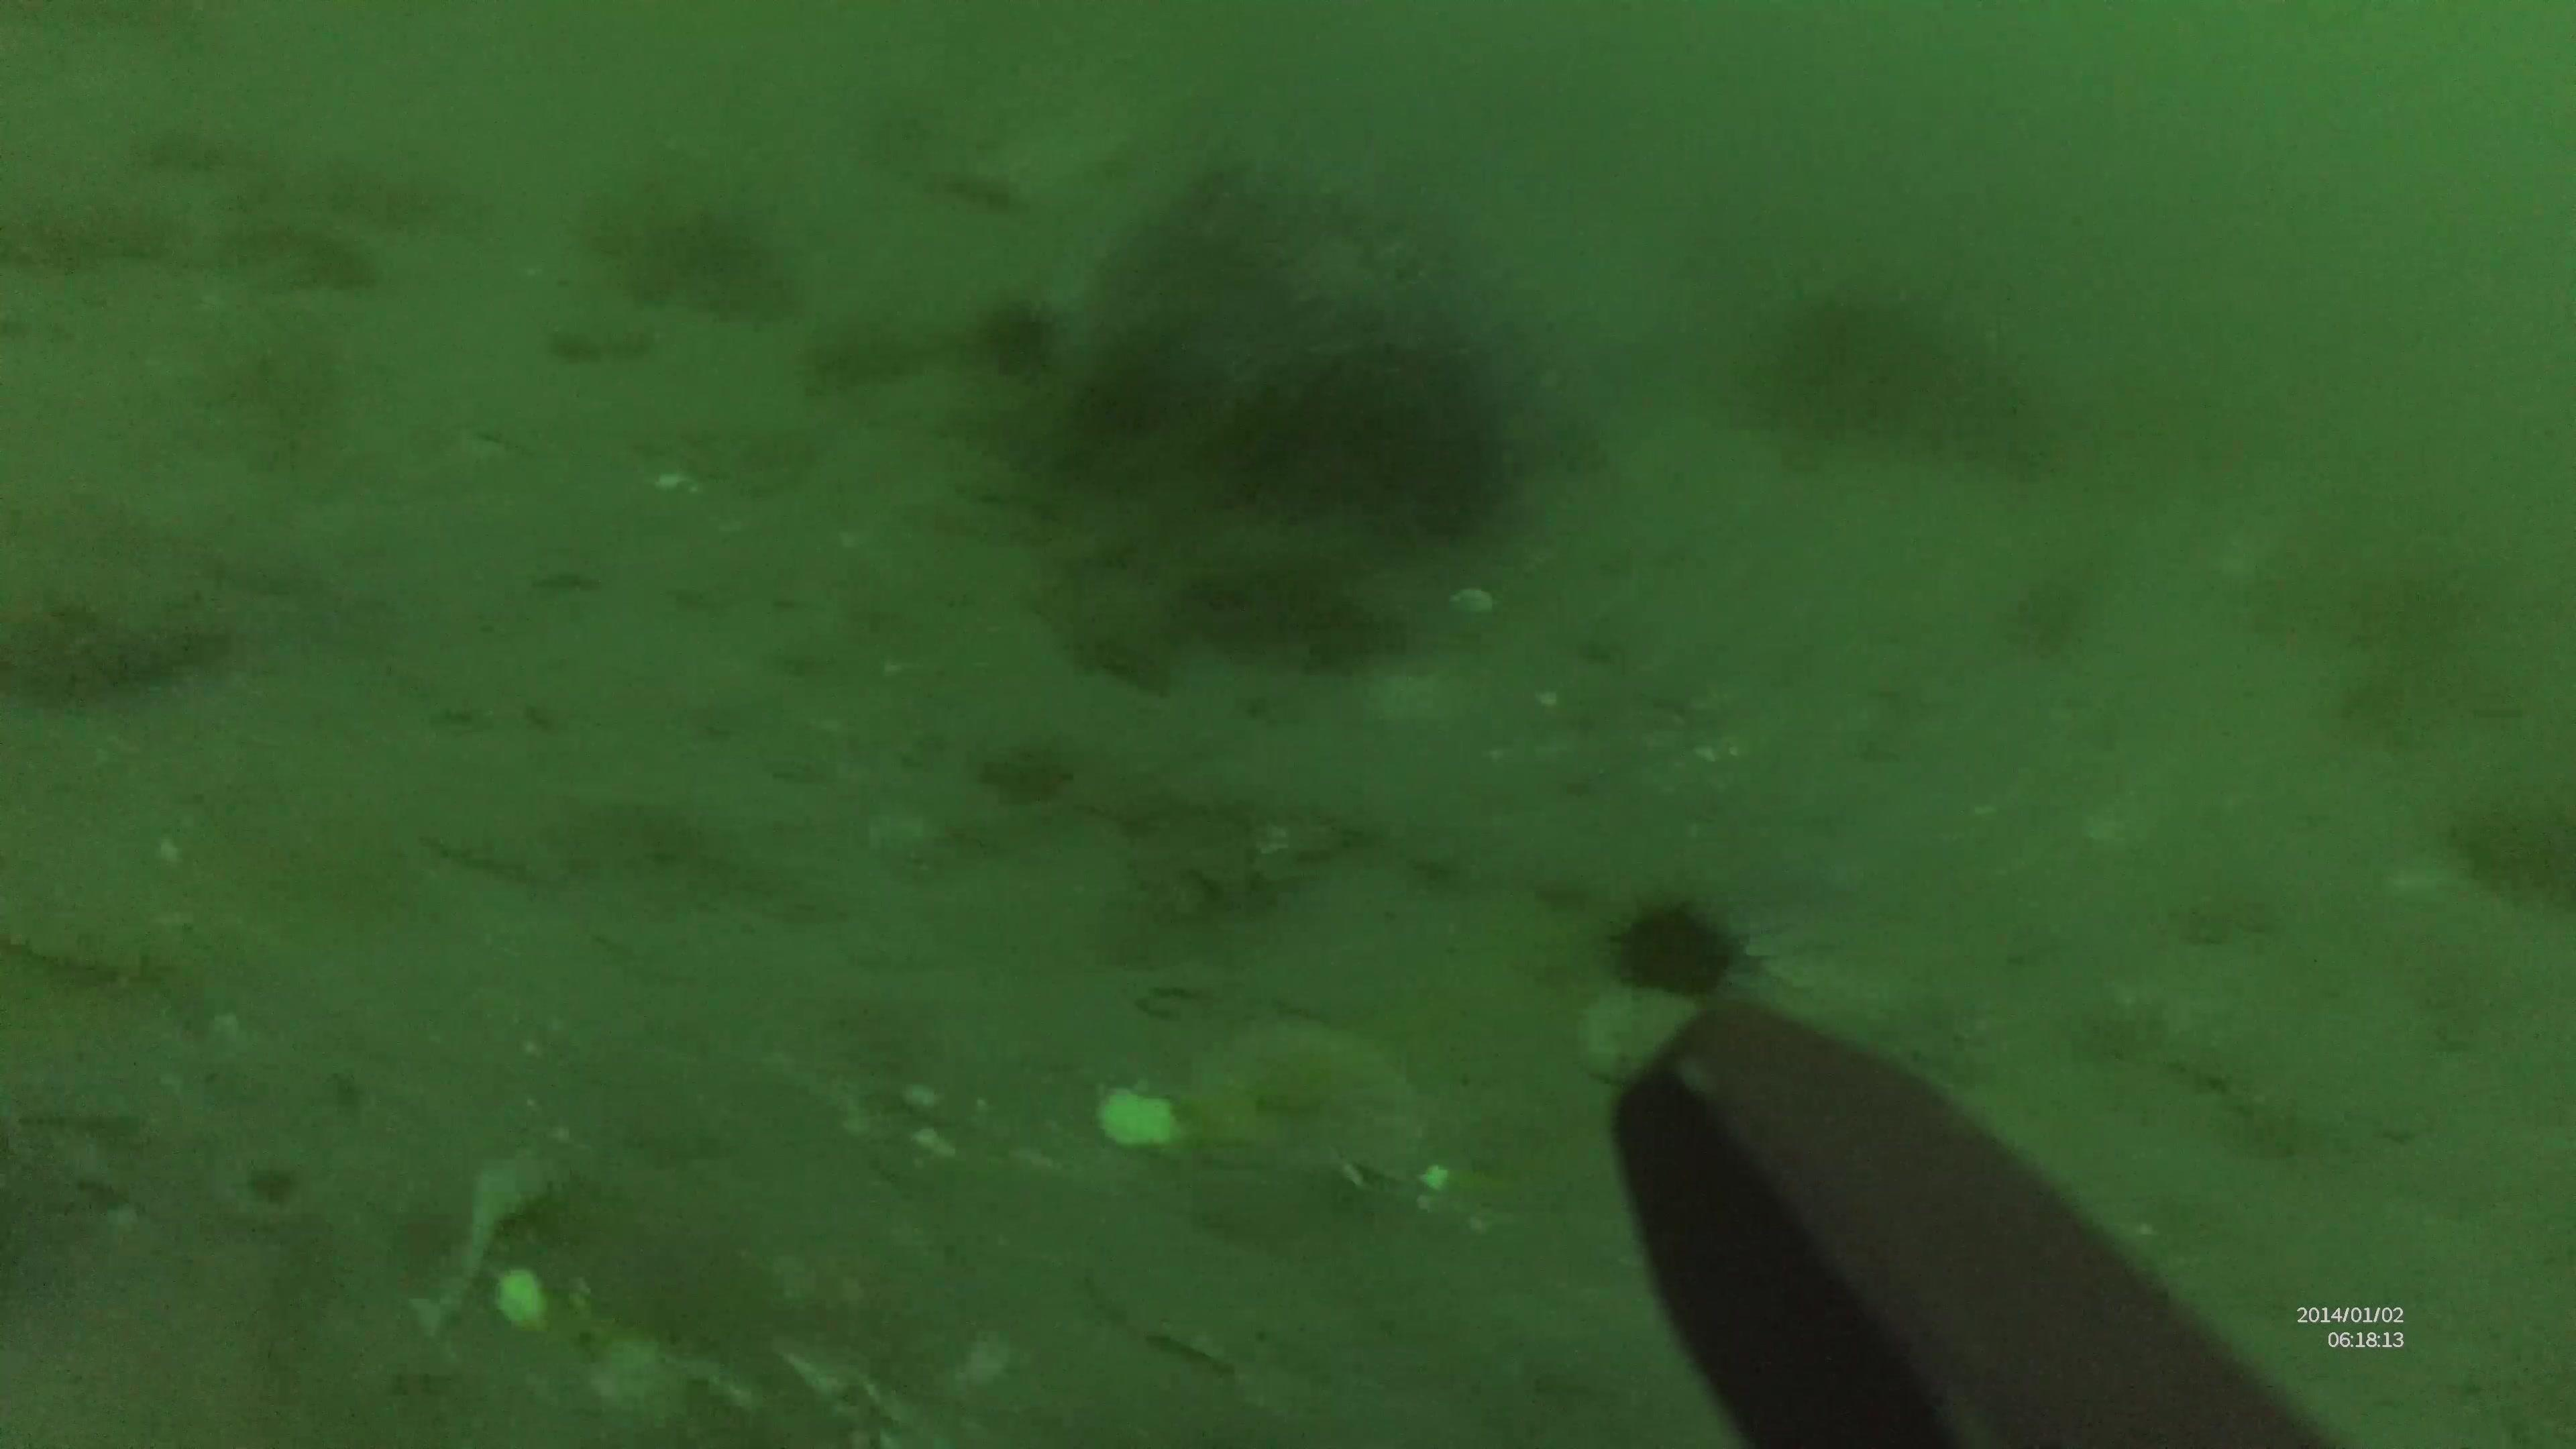echinus: (1589, 881, 1755, 1008)
